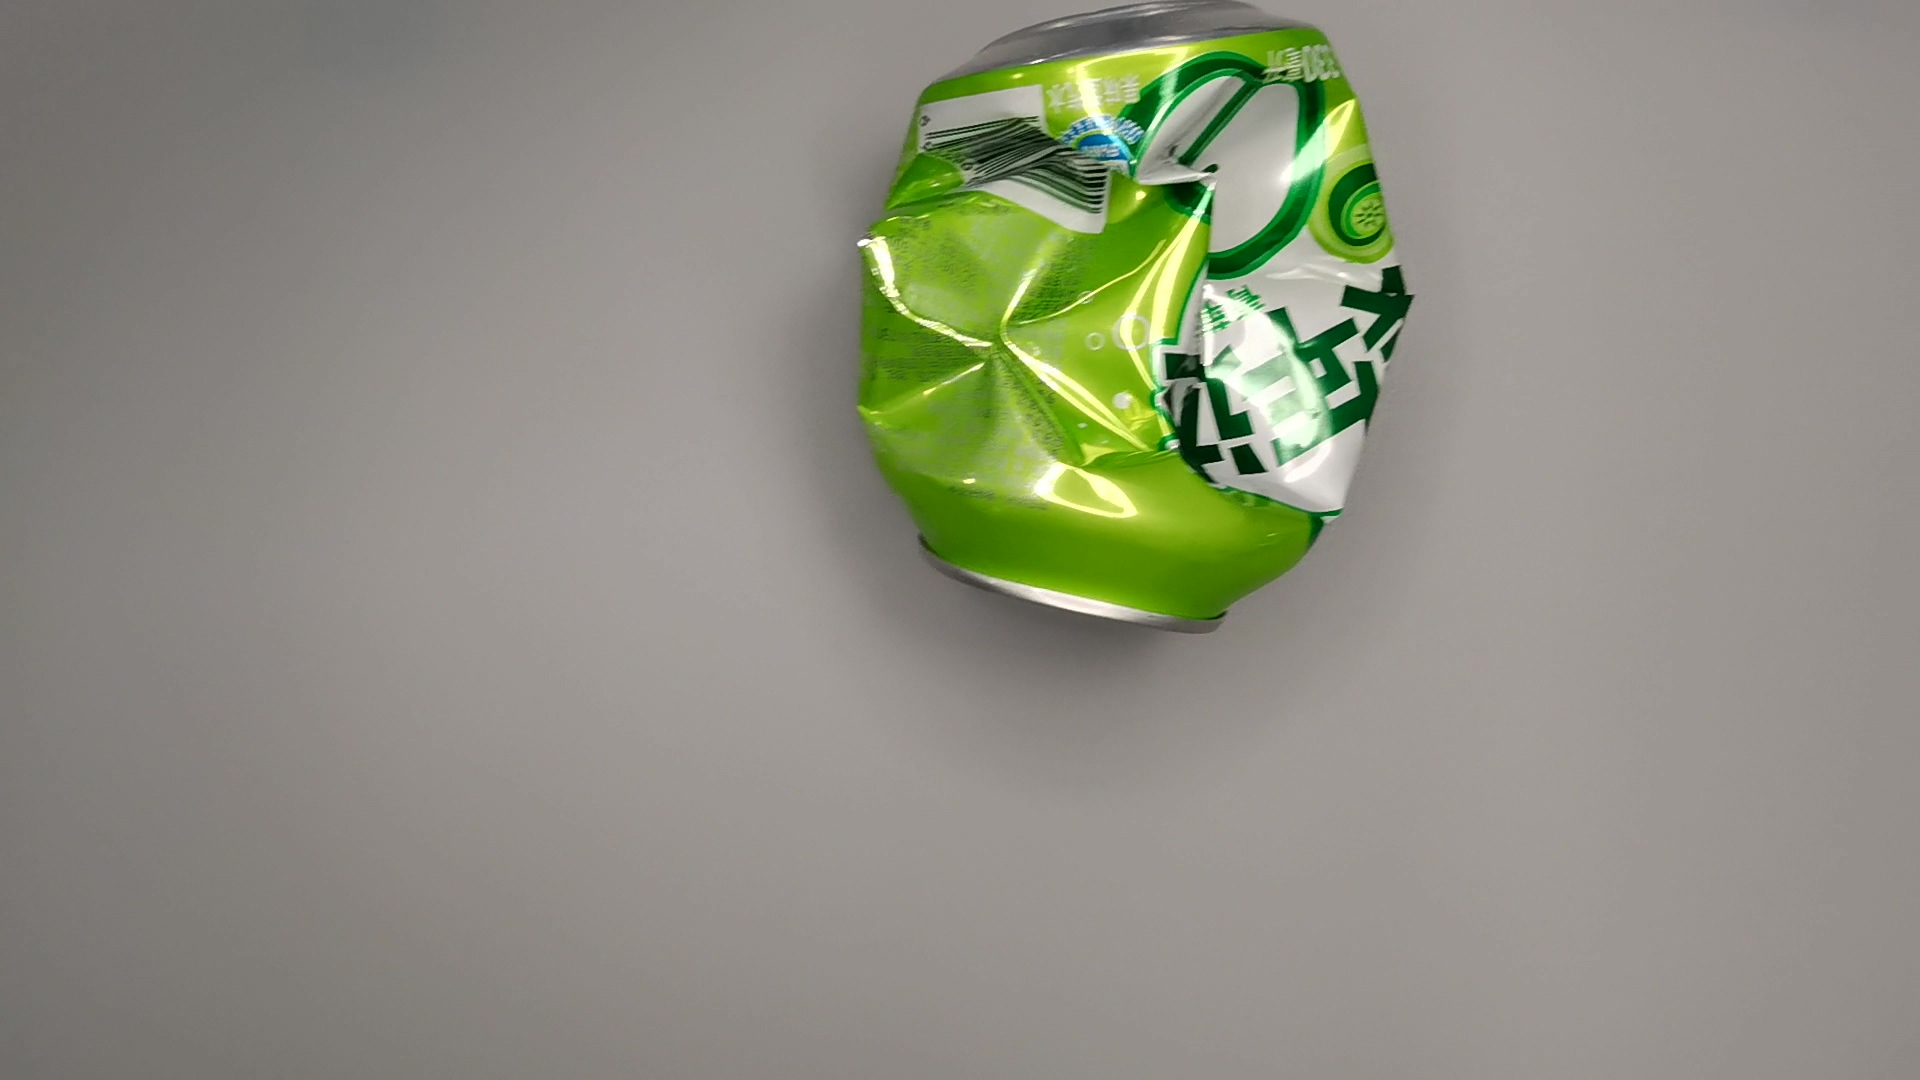can: (841, 1, 1435, 650)
